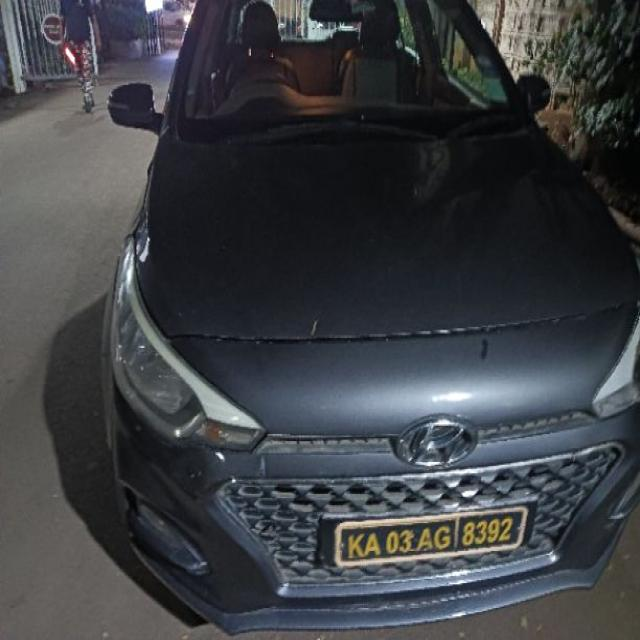license_plate: (323, 502, 530, 570)
